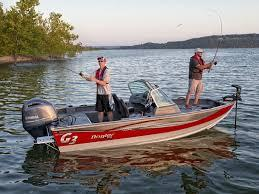fishing boat: (19, 44, 243, 154)
